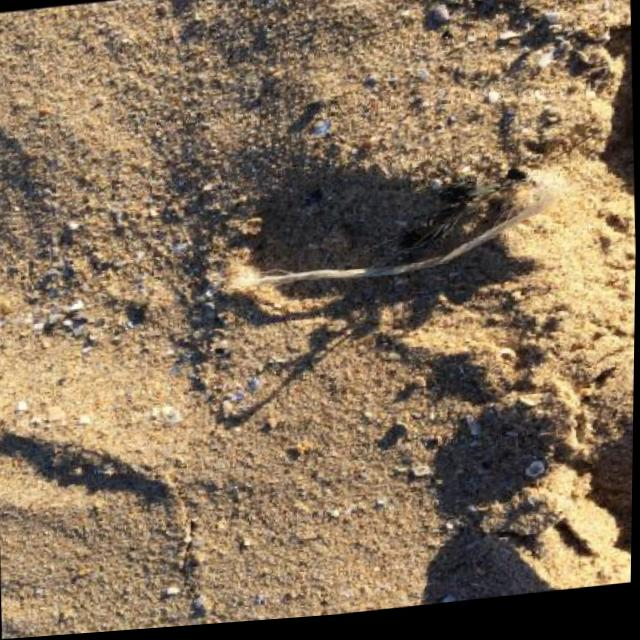other: (230, 179, 567, 293)
